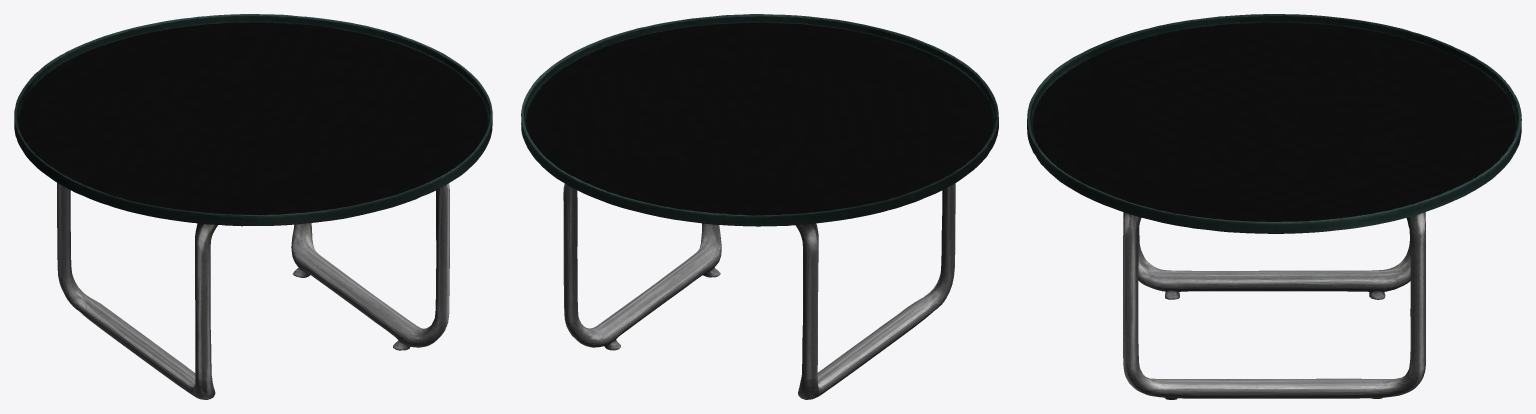
File: abda1c99-8592-4704-8d48-82b8f26bbbb6.glb
The picture shows the model from 3 angles, left to right: view 1: azimuth 30°, elevation 25°; view 2: azimuth 150°, elevation 25°; view 3: azimuth 270°, elevation 25°; orthographic projection. The views are drawn at different scales.
Parts seen in each view (by area): view 1: world; view 2: world; view 3: world.
Part boxes in pixels (bbox=[...]): world: bbox=[14, 14, 492, 399]; world: bbox=[521, 14, 998, 399]; world: bbox=[1027, 14, 1521, 399].
Bounding box in the file's own units: 1 × 0.5115 × 1.
Materials: 1 (1 with a texture image).
